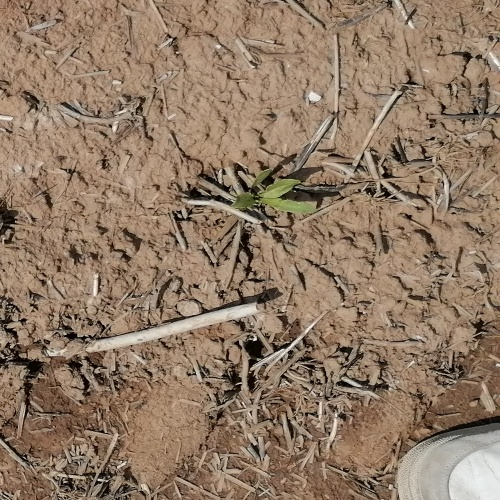beet: (231, 169, 318, 214)
